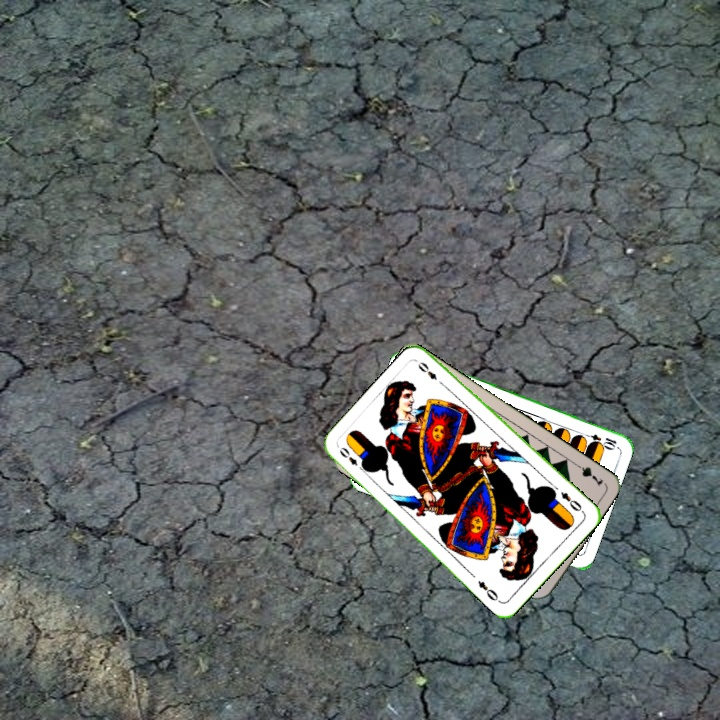E10: (579, 429, 619, 451)
EO: (335, 443, 368, 475), (556, 488, 587, 515)
G7: (570, 458, 606, 489)
